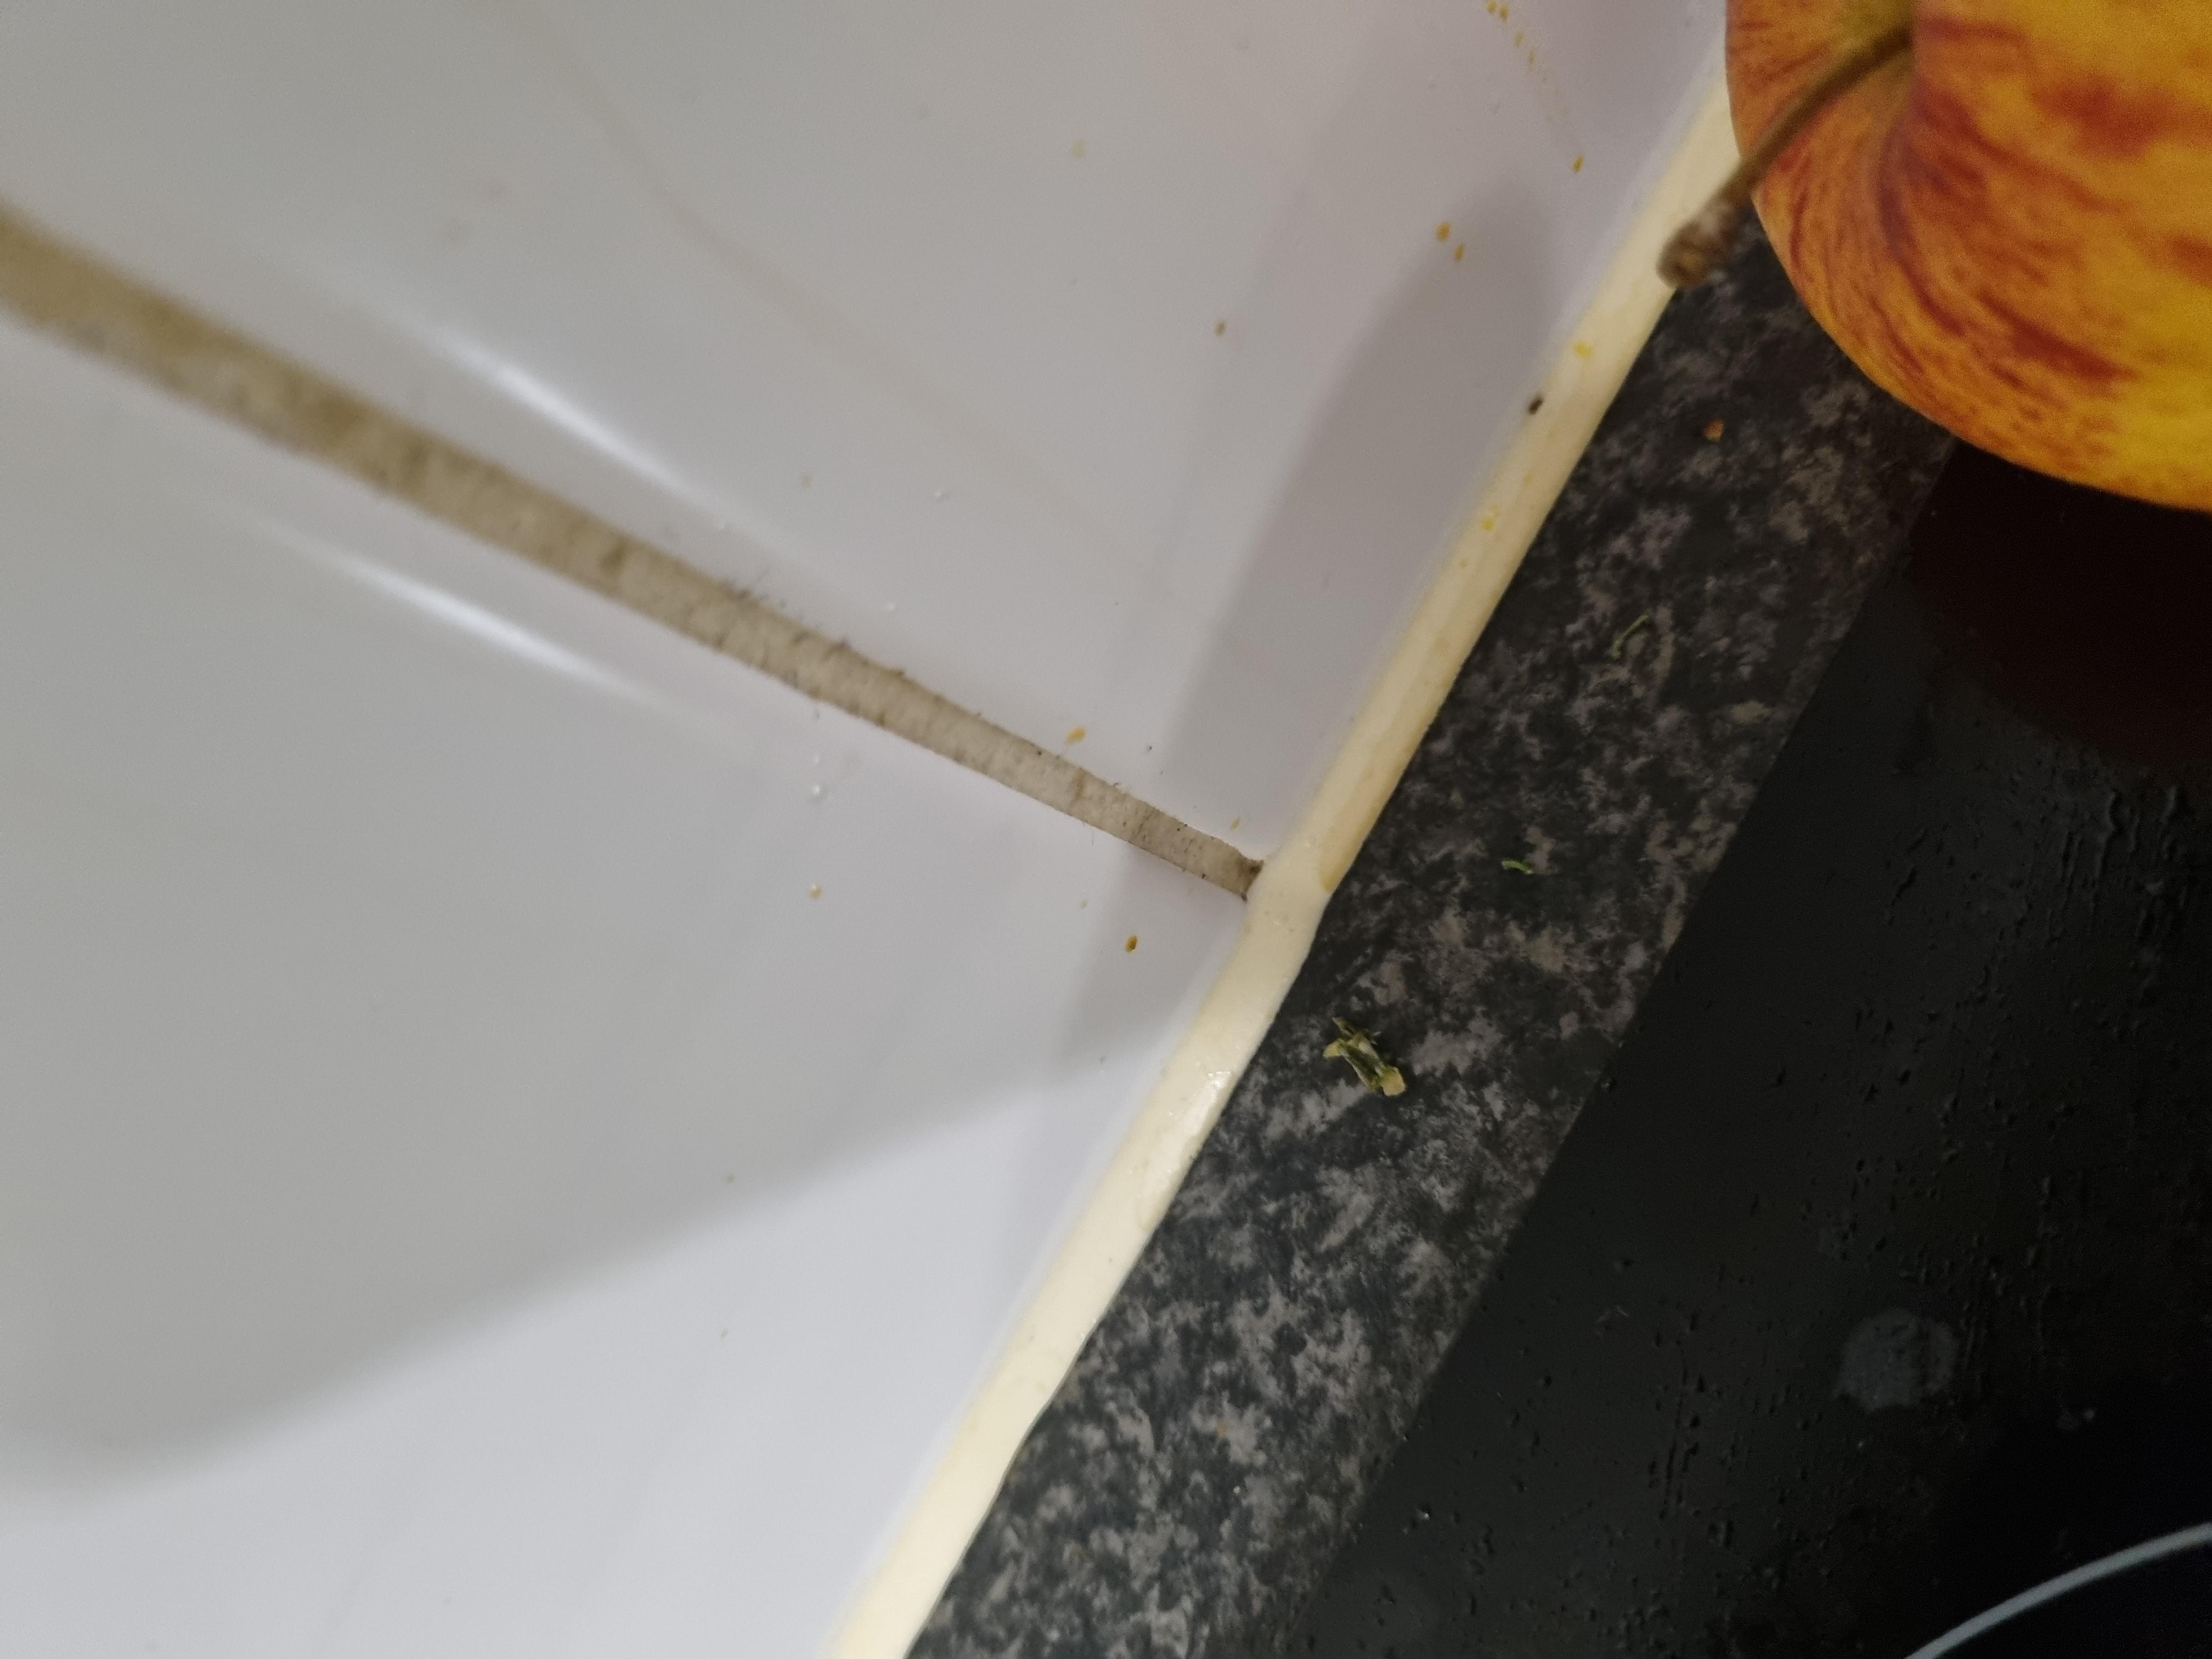Apple: (1501, 1227, 2212, 1659)
